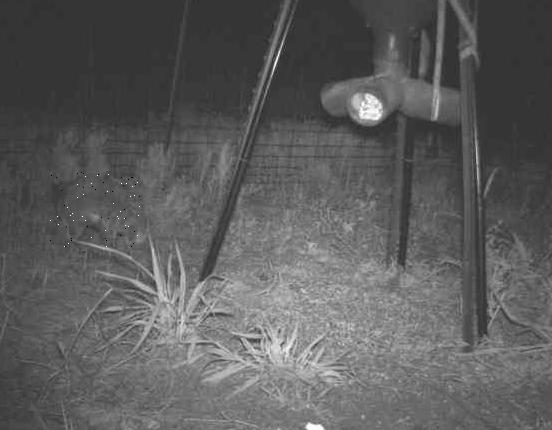Raccoon: (51, 171, 142, 247)
